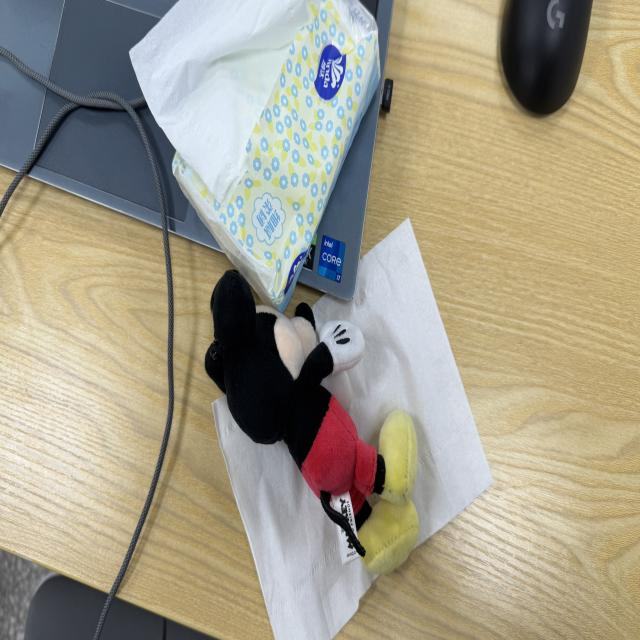mickey: (206, 271, 418, 573)
tissue: (131, 0, 379, 310), (314, 220, 491, 543), (130, 0, 311, 201)
